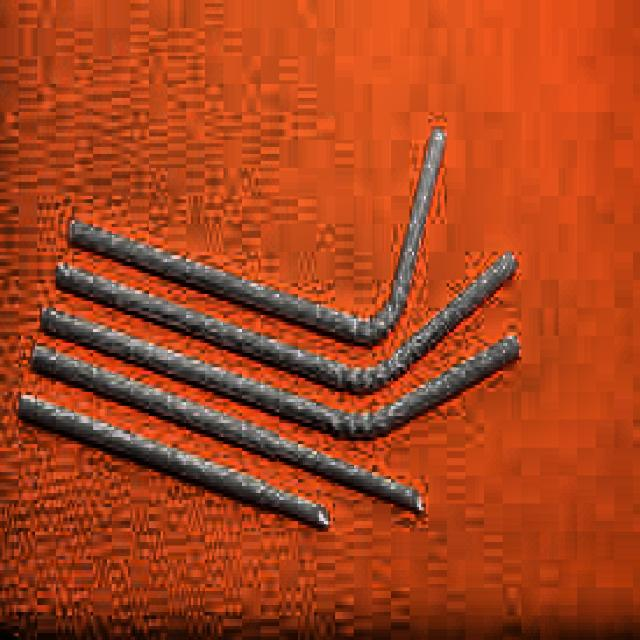plastic straw: (70, 130, 442, 343), (32, 348, 421, 510), (56, 255, 515, 392), (41, 308, 519, 437), (19, 400, 326, 525)
